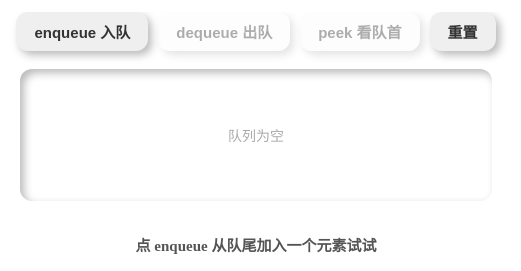
Test case: QueueViz › TC-VIZ-QUEUEVIZ-06 enqueue 到 6 后 enqueue 禁用
The image size is (521, 271).
Click the button "enqueue 入队" at (82, 32), box [16,12,148,51]
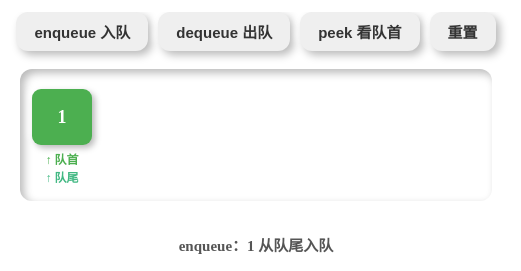
Click the button "enqueue 入队" at (82, 32), box [16,12,148,51]
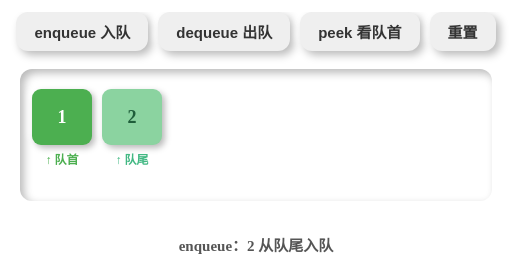
Click the button "enqueue 入队" at (82, 32), box [16,12,148,51]
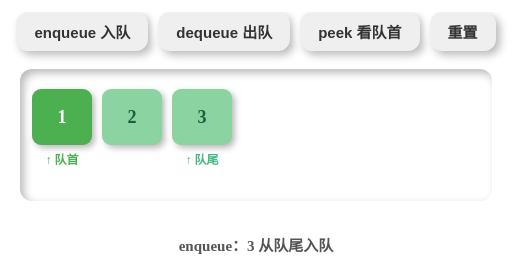
Click the button "enqueue 入队" at (82, 32), box [16,12,148,51]
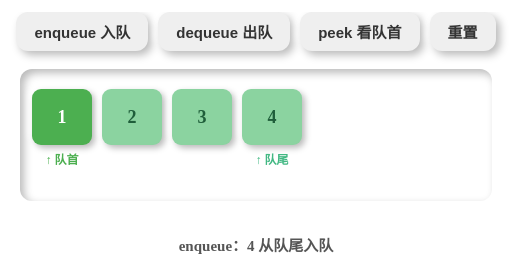
Click the button "enqueue 入队" at (82, 32), box [16,12,148,51]
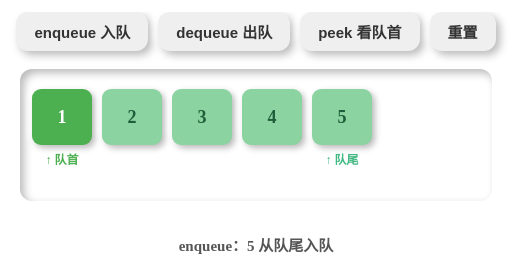
Click the button "enqueue 入队" at (82, 32), box [16,12,148,51]
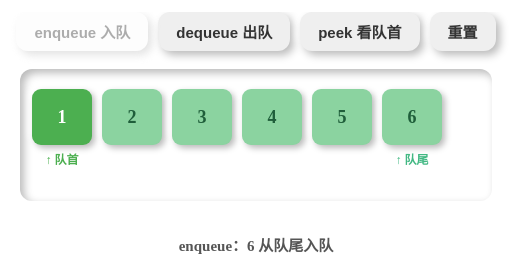
Now the button "enqueue 入队" is disabled, box [16,12,148,51]
